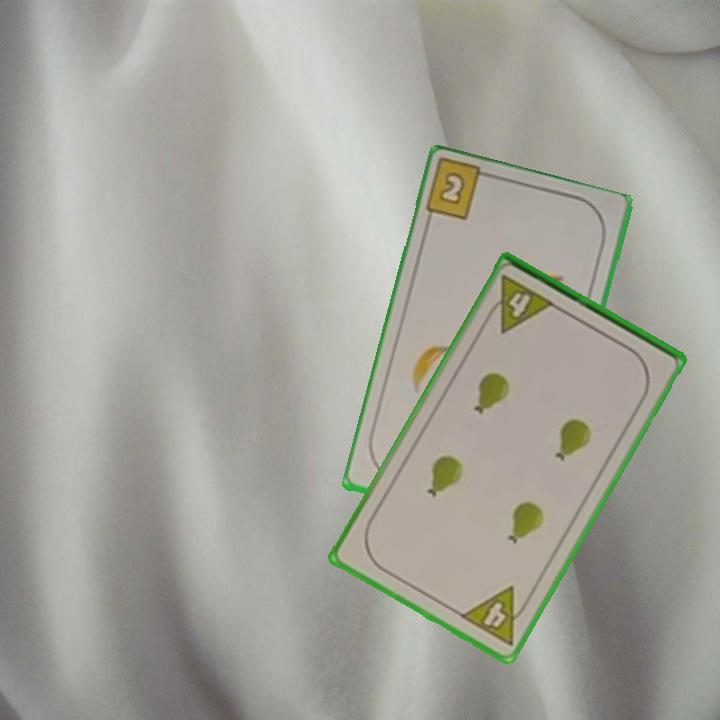2b: (423, 158, 499, 224)
4p: (456, 582, 535, 650), (481, 272, 558, 336)
